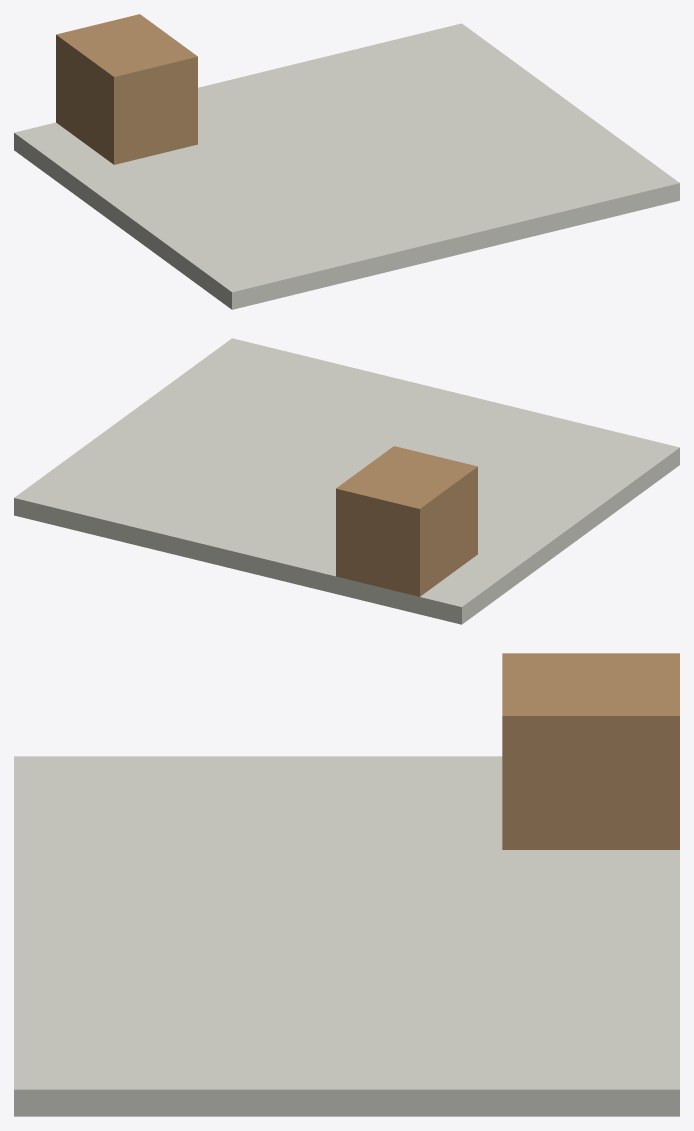
The model's file is modelo.obj.
3 renders of one model, top to bottom at view 1: azimuth 30°, elevation 25°; view 2: azimuth 150°, elevation 25°; view 3: azimuth 270°, elevation 25°, orthographic. The views are drawn at different scales.
Visible parts, largest first — view 1: PAREDE-001, MOD-001-TOPO, MOD-001-LAT-E, MOD-001-FUNDO; view 2: PAREDE-001, MOD-001-BASE, MOD-001-LAT-E, MOD-001-FUNDO; view 3: PAREDE-001, MOD-001-LAT-D, MOD-001-FUNDO.
Boxes of the visible parts, x1,y1,x2,y2 form: PAREDE-001: (14,23,679,309); MOD-001-TOPO: (112,56,197,164); MOD-001-LAT-E: (56,34,116,164); MOD-001-FUNDO: (57,14,197,79); PAREDE-001: (14,338,679,624); MOD-001-BASE: (336,488,421,596); MOD-001-LAT-E: (417,466,477,596); MOD-001-FUNDO: (336,446,477,508); PAREDE-001: (14,756,679,1116); MOD-001-LAT-D: (502,714,679,849); MOD-001-FUNDO: (502,653,679,719).
Bounding box in the file's own units: 3.2 × 0.72 × 2.7.
